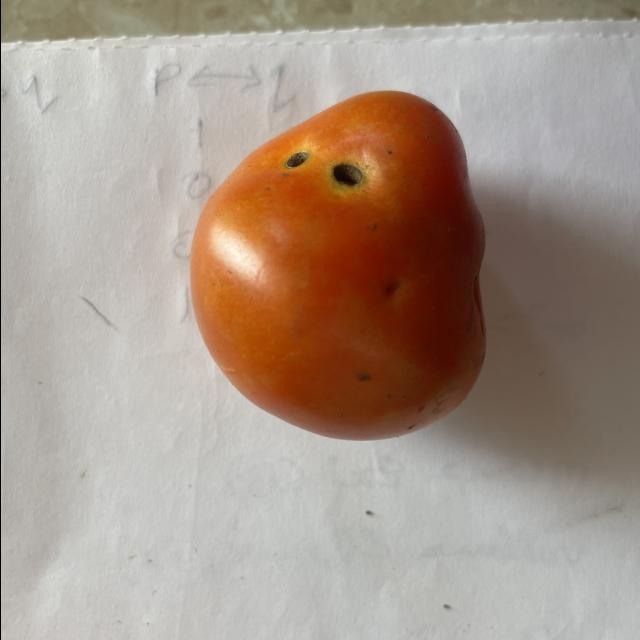fruitworm_bore: (278, 137, 368, 190)
